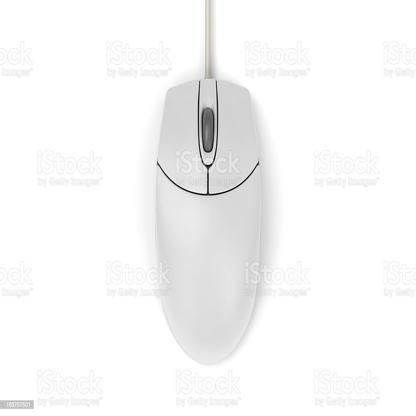not trash: (150, 79, 268, 368)
